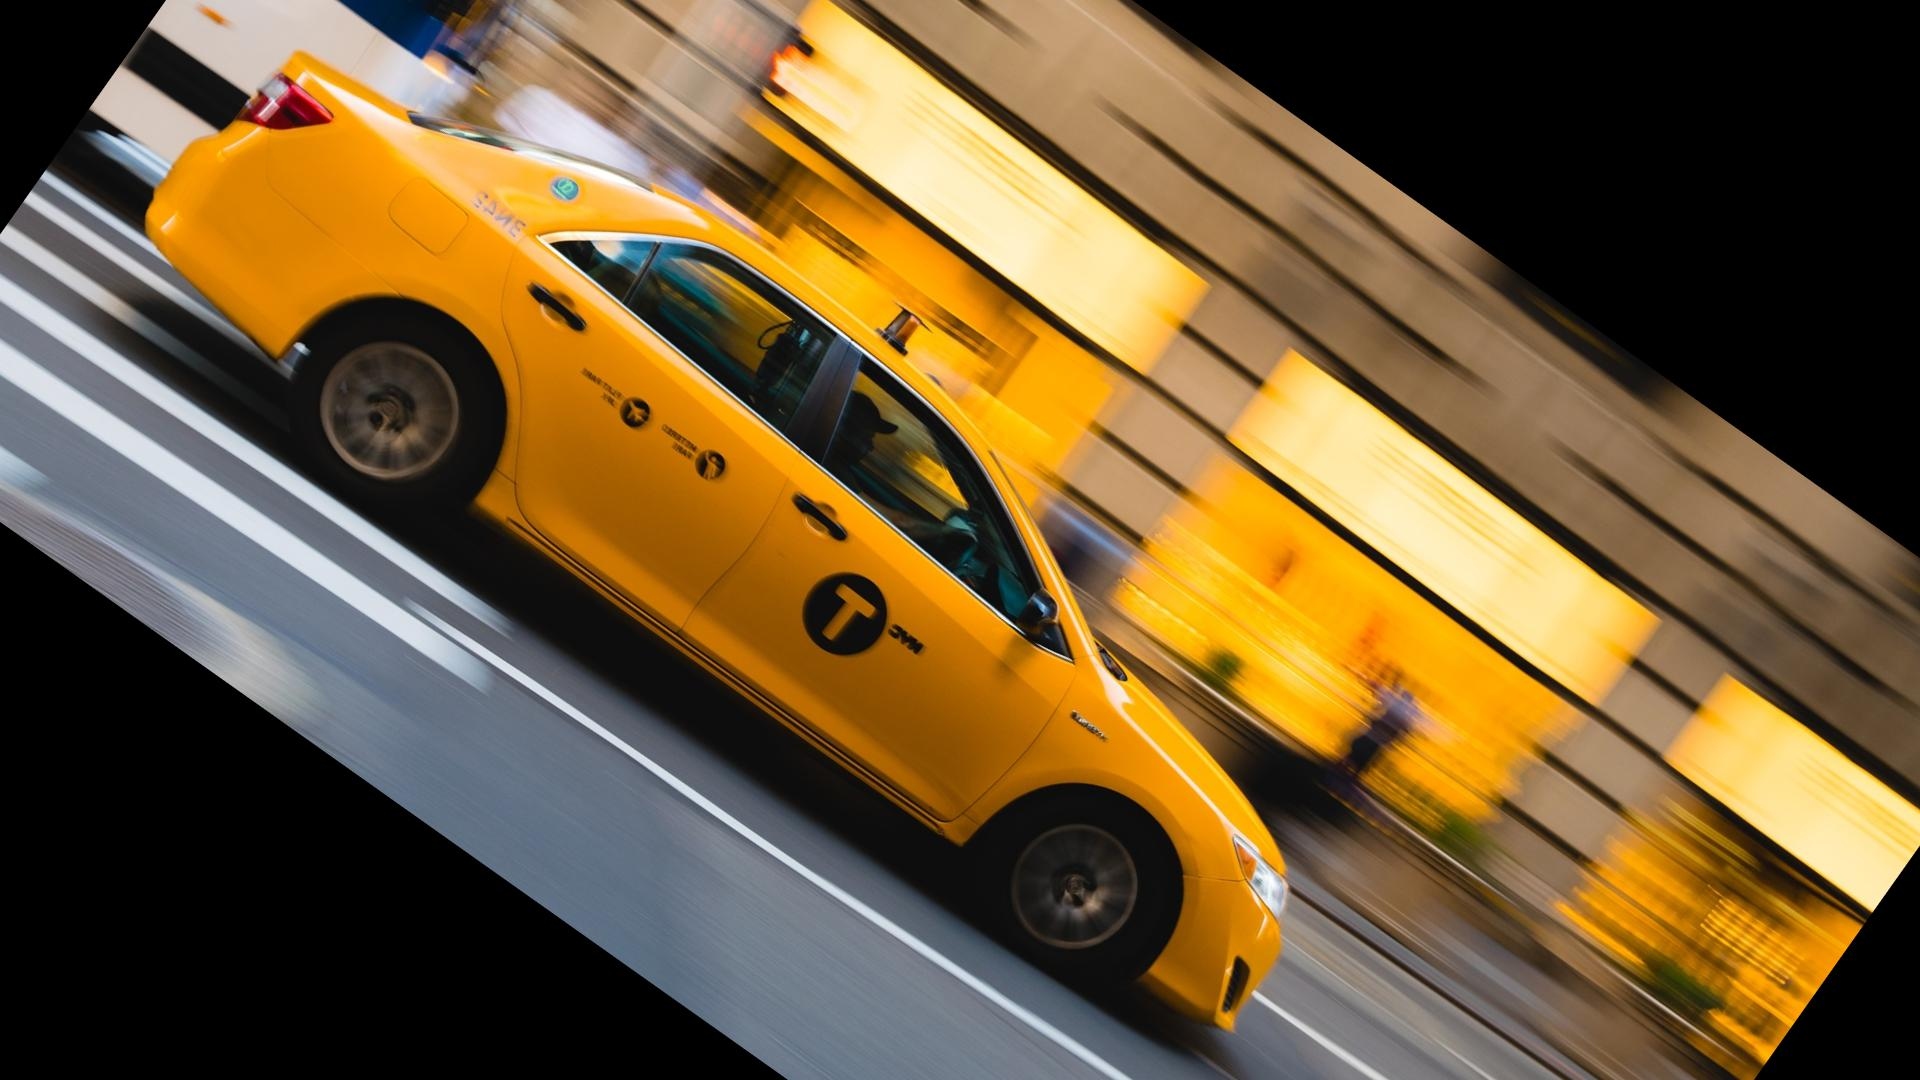taxi: (153, 41, 1267, 1050)
